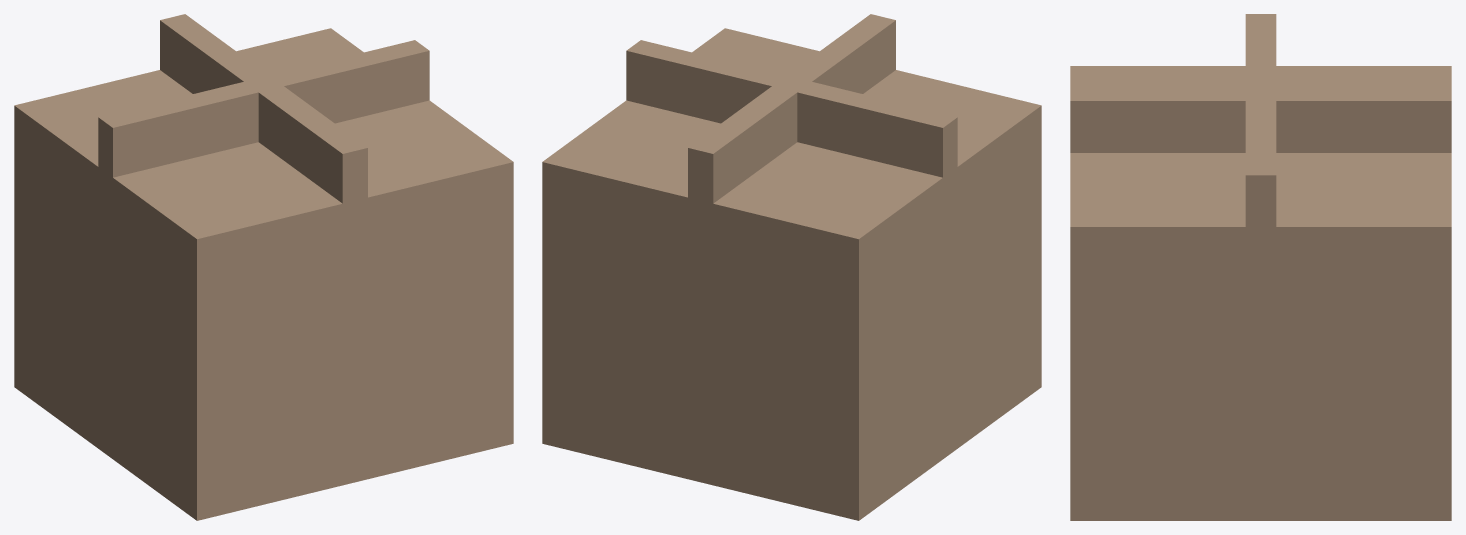
File: raised-bed.glb
The picture shows the model from 3 angles, left to right: view 1: azimuth 30°, elevation 25°; view 2: azimuth 150°, elevation 25°; view 3: azimuth 270°, elevation 25°; orthographic projection. The views are drawn at different scales.
Parts seen in each view (by area): view 1: raised-bed; view 2: raised-bed; view 3: raised-bed.
Boxes of the visible parts, x1,y1,x2,y2 form: raised-bed: (14, 14, 513, 520); raised-bed: (542, 14, 1041, 520); raised-bed: (1070, 14, 1451, 520).
Size of the model in its own units: 1 by 1 by 1.
